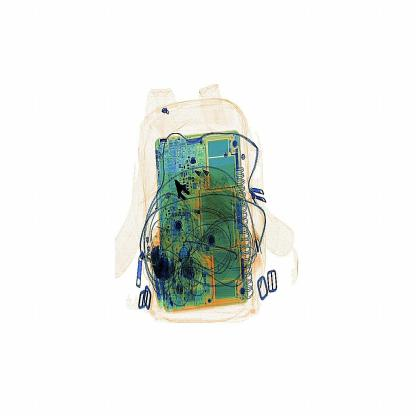gun: (162, 166, 196, 212)
